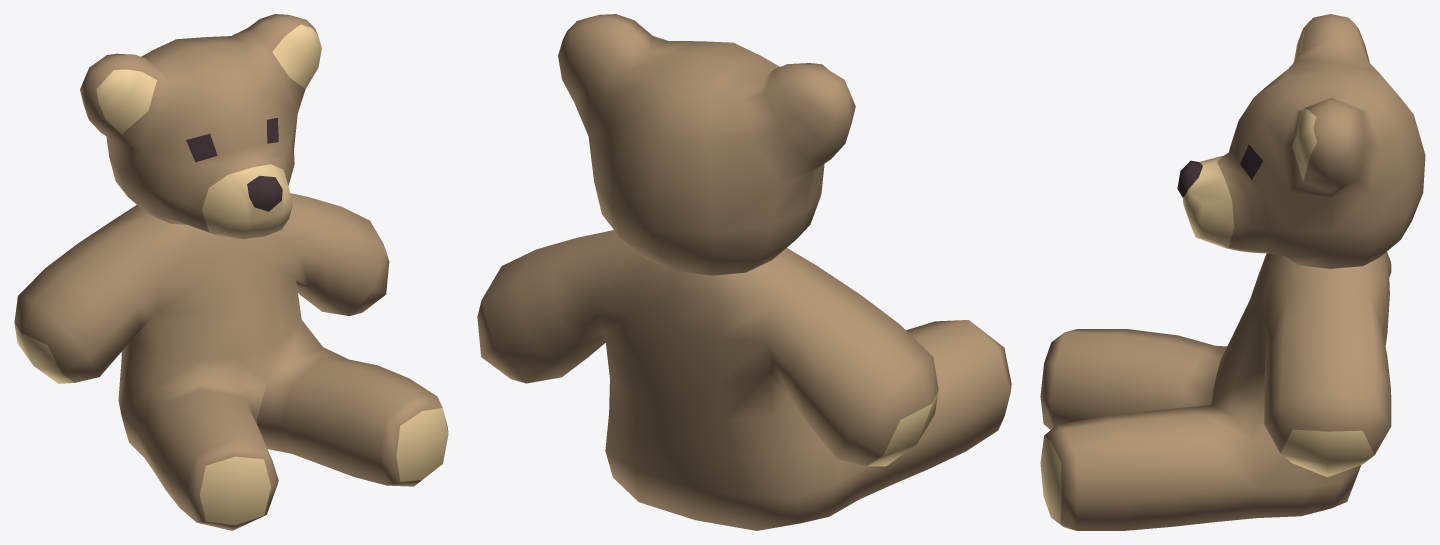
Rendered from teddy bear.fbx.
3 renders of one model, left to right at view 1: azimuth 30°, elevation 25°; view 2: azimuth 150°, elevation 25°; view 3: azimuth 270°, elevation 25°, orthographic. The views are drawn at different scales.
Visible parts, largest first — view 1: pCube1; view 2: pCube1; view 3: pCube1.
Part boxes in pixels (left/top/right/bottom): pCube1: left=14, top=14, right=448, bottom=530; pCube1: left=477, top=14, right=1011, bottom=530; pCube1: left=1040, top=14, right=1425, bottom=530.
Size of the model in its own units: 8.41 by 8.53 by 7.07.
